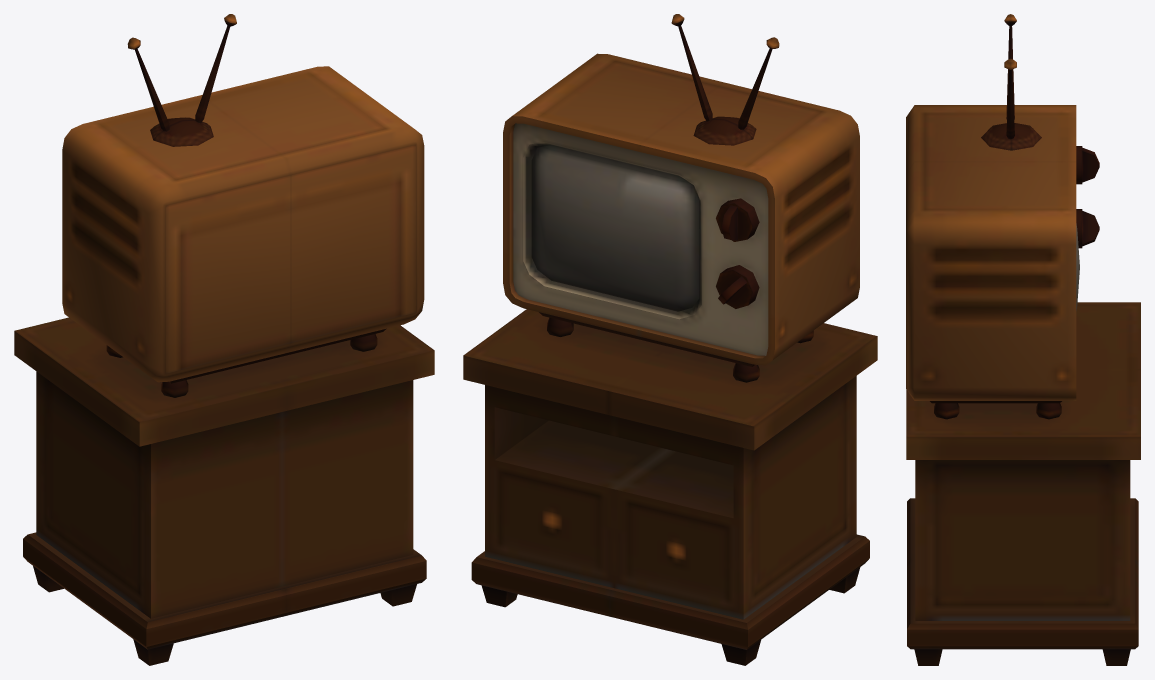
3 views of the same model, side by side, from view 1: azimuth 30°, elevation 25°; view 2: azimuth 150°, elevation 25°; view 3: azimuth 270°, elevation 25° (orthographic). The views are drawn at different scales.
Visible parts, largest first — view 1: TV_02; view 2: TV_02; view 3: TV_02.
Part boxes in pixels (box(x1,y1,x2,y2)): TV_02: box(14, 14, 434, 665); TV_02: box(463, 14, 877, 665); TV_02: box(906, 14, 1140, 665).
Bounding box in the file's own units: 42.95 × 81.1 × 31.57.
Materials: 1 (1 with a texture image).
